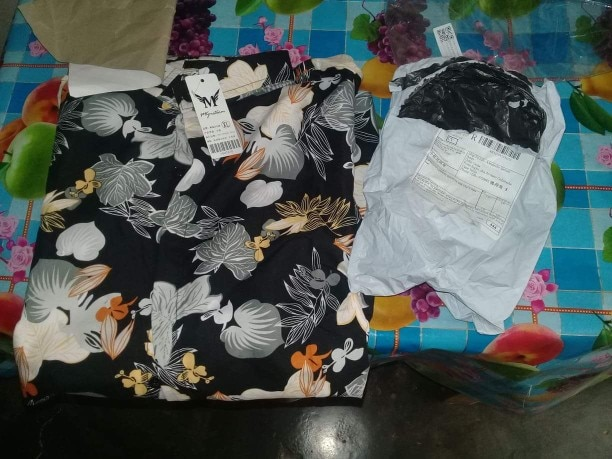shirts: (15, 51, 359, 399)
